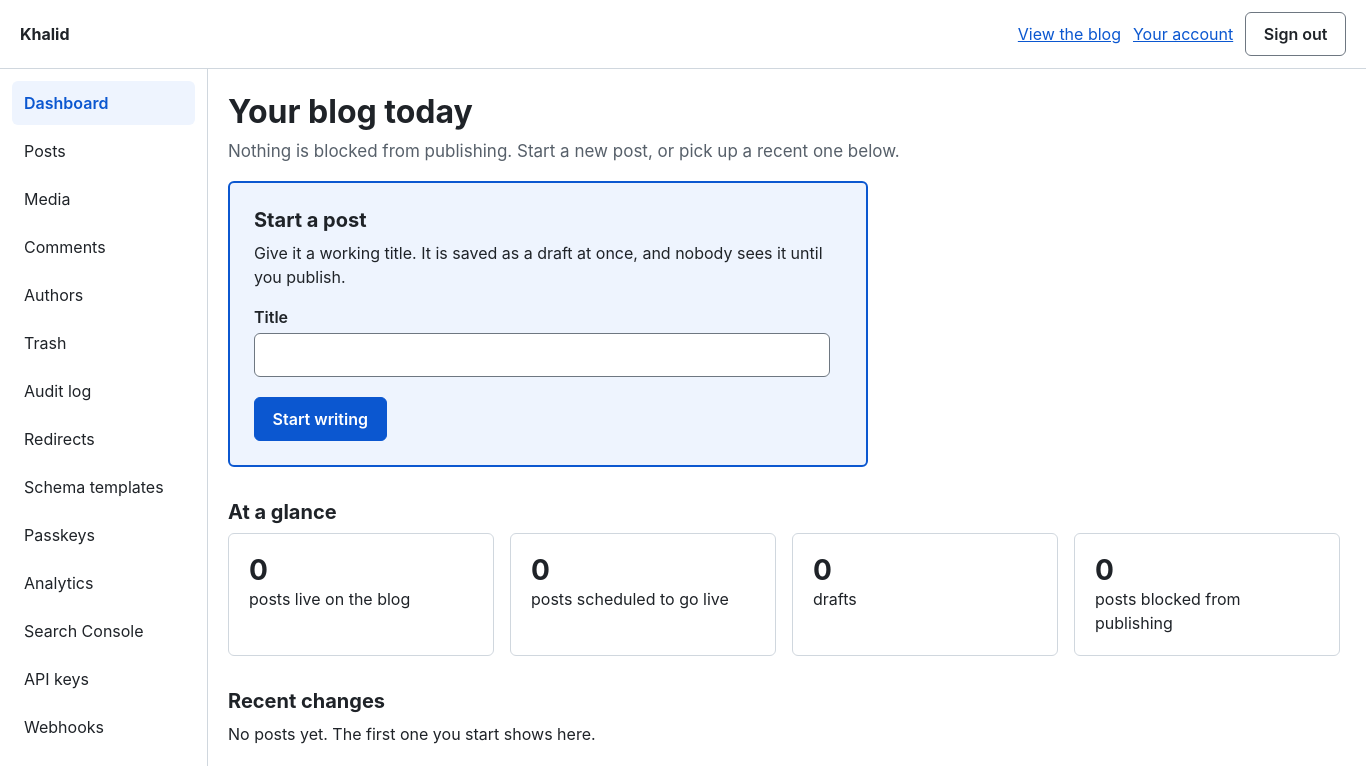
Test: starting a post › explains a draft the blog could not make
Type "Why dough sticks" into the field labelled "Title".
click(542, 355); type("Why dough sticks")  # box [254,333,830,377]
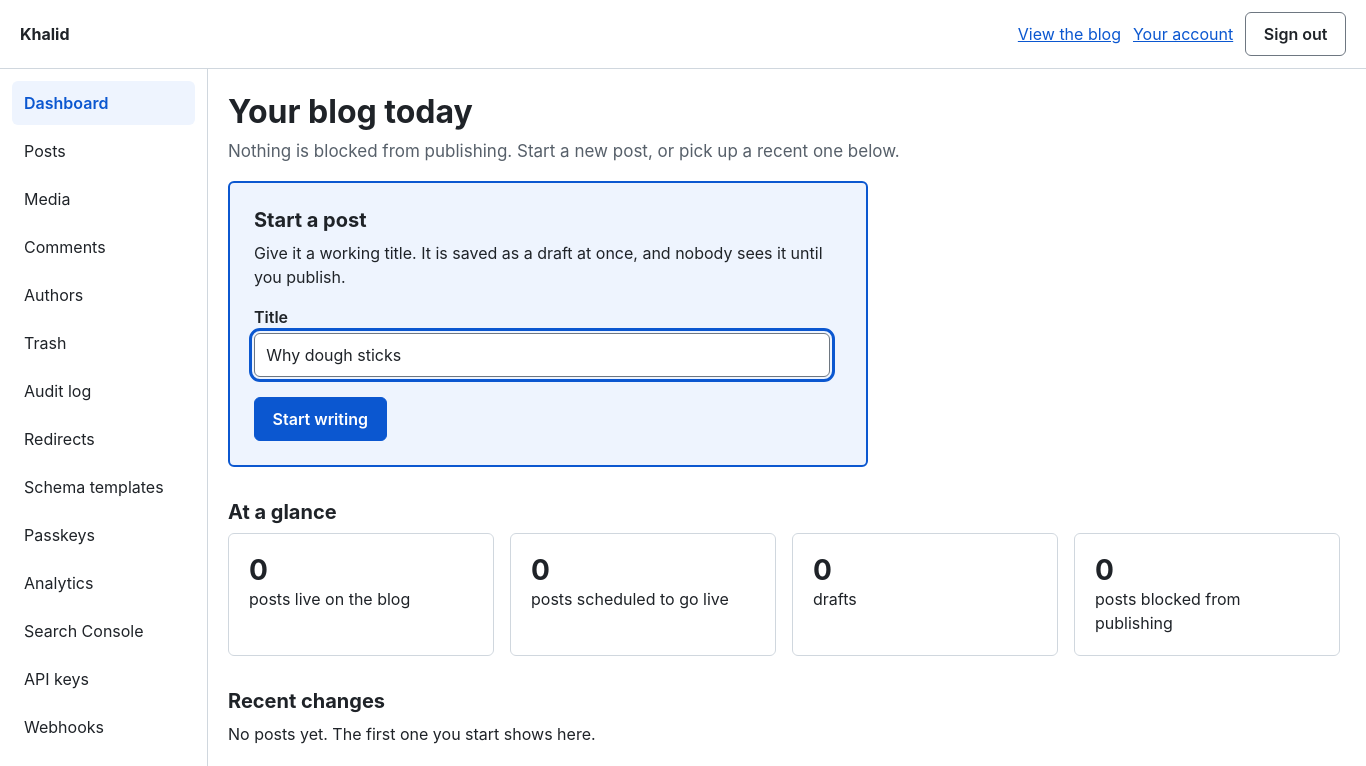
Click the button "Start writing".
click(320, 419)  # box [254,397,386,441]
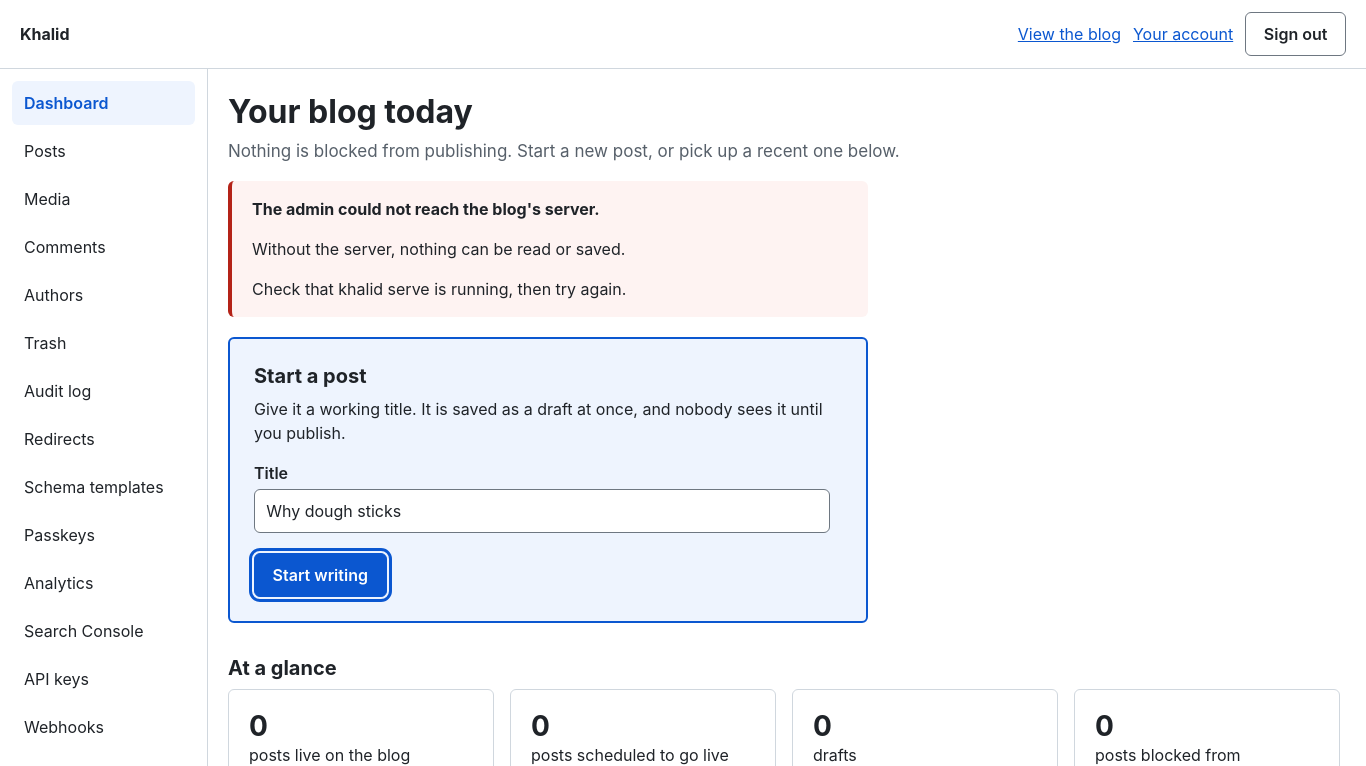
Now the message shows "The admin could not reach the blog's server.", box [252,199,600,219]
